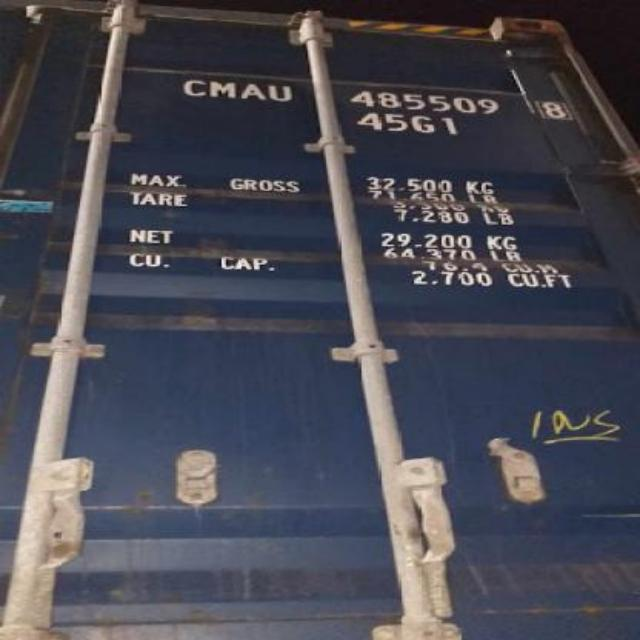0: (450, 95, 478, 113)
4: (348, 87, 378, 107)
5: (400, 91, 428, 109), (428, 93, 452, 111)
8: (534, 100, 572, 118), (378, 87, 402, 107)
9: (478, 96, 504, 114)
A: (240, 78, 266, 100)
C: (178, 77, 208, 97)
M: (204, 78, 240, 99)
U: (266, 83, 296, 101)
